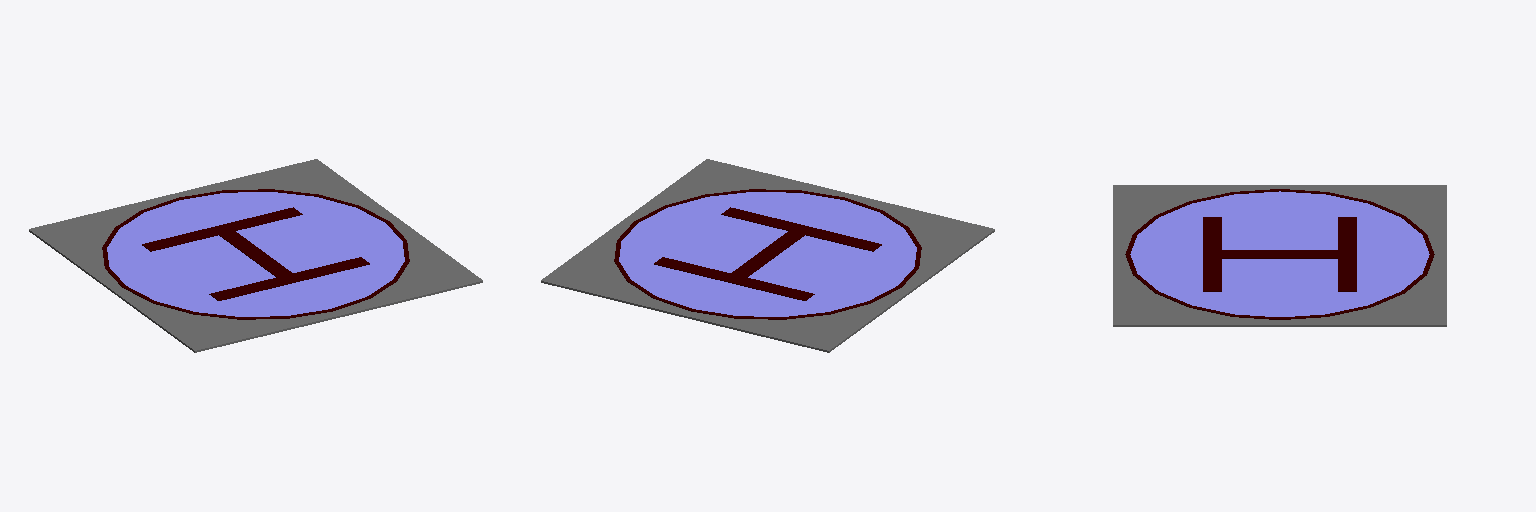
The model's file is simple_helipad.obj.
The picture shows the model from 3 angles: view 1: azimuth 30°, elevation 25°; view 2: azimuth 150°, elevation 25°; view 3: azimuth 270°, elevation 25°; orthographic projection.
Visible parts, largest first — view 1: pCylinder15, pCube5, pCube4, pCube3, pCube2; view 2: pCylinder15, pCube5, pCube4, pCube3, pCube2; view 3: pCylinder15, pCube5, pCube4, pCube3, pCube2.
Boxes of the visible parts, box(x1,y1,x2,y2) form: pCylinder15: box(102, 189, 409, 319); pCube5: box(29, 159, 482, 352); pCube4: box(209, 257, 369, 300); pCube3: box(142, 207, 302, 251); pCube2: box(210, 224, 301, 283); pCylinder15: box(614, 189, 921, 319); pCube5: box(541, 159, 994, 352); pCube4: box(721, 207, 881, 251); pCube3: box(654, 257, 814, 300); pCube2: box(722, 224, 813, 283); pCylinder15: box(1125, 189, 1434, 319); pCube5: box(1113, 185, 1446, 326); pCube4: box(1203, 217, 1221, 291); pCube3: box(1338, 217, 1356, 291); pCube2: box(1204, 250, 1355, 258).
Size of the model in its own units: 270 by 3.58 by 270.